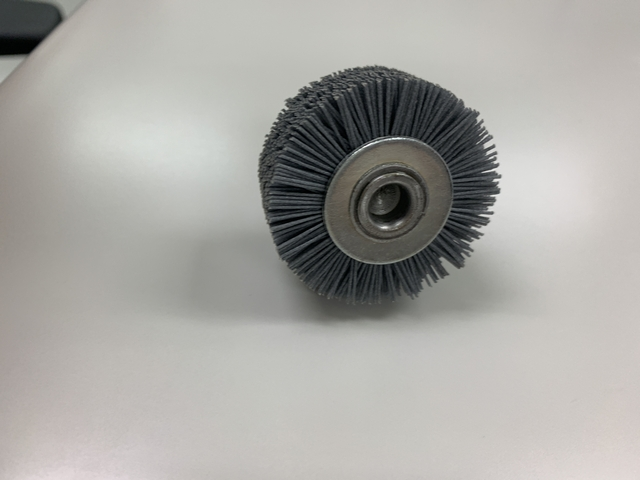Wheel Brush: (261, 46, 522, 286), (254, 63, 493, 295)
